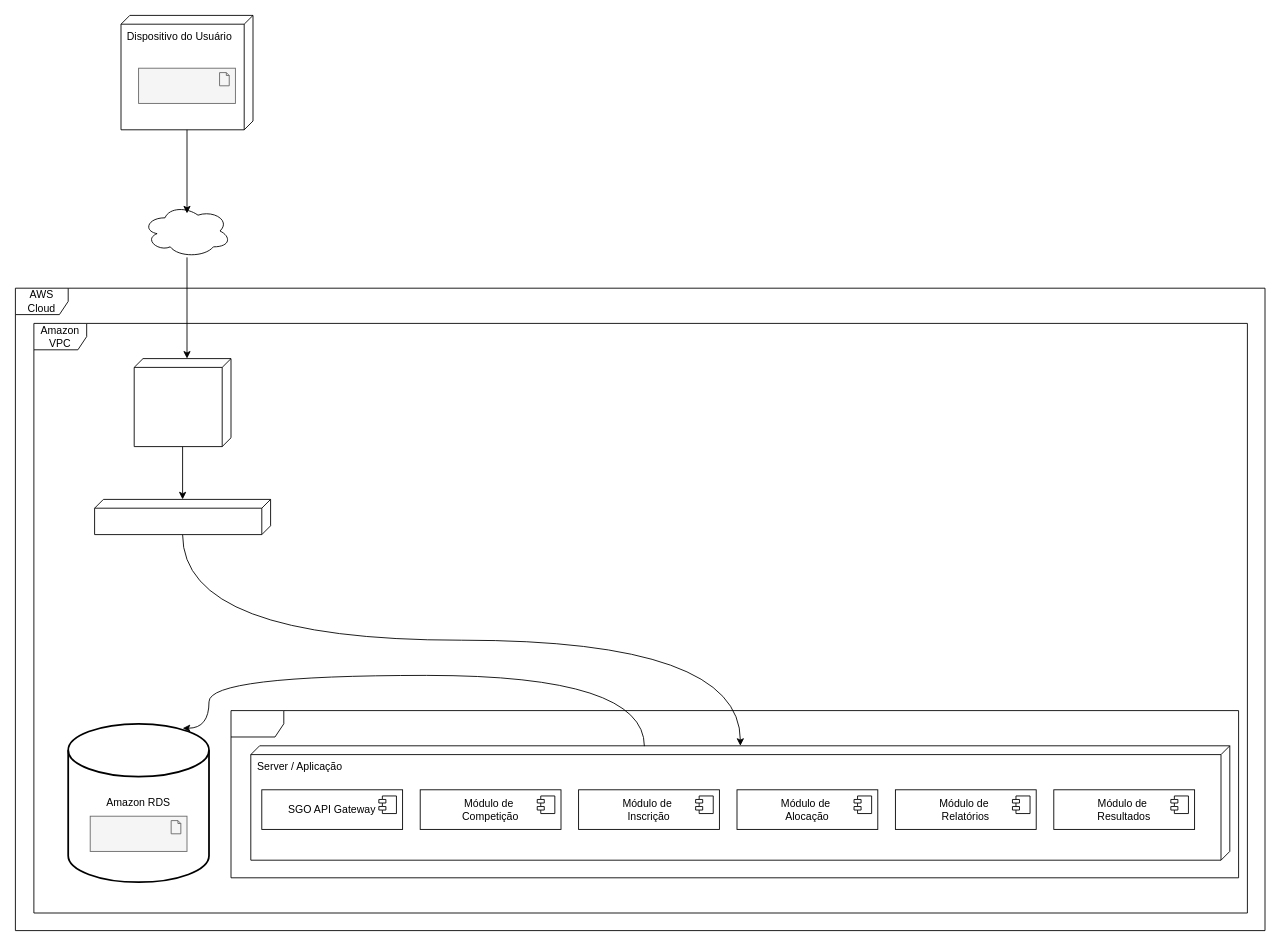
Some shapes in this 1280 by 946 pixel diagram are drawn without their labels. Here are the shapes that lost their labels. From the top down, the centre of each, then its label:
(x=186, y=85): Browser
(x=186, y=230): Internet (HTTPS)
(x=182, y=402): AWS WAF (Firewall)
(x=182, y=517): Application Load Balancer
(x=734, y=794): ECS
(x=138, y=833): PostgreSQL
